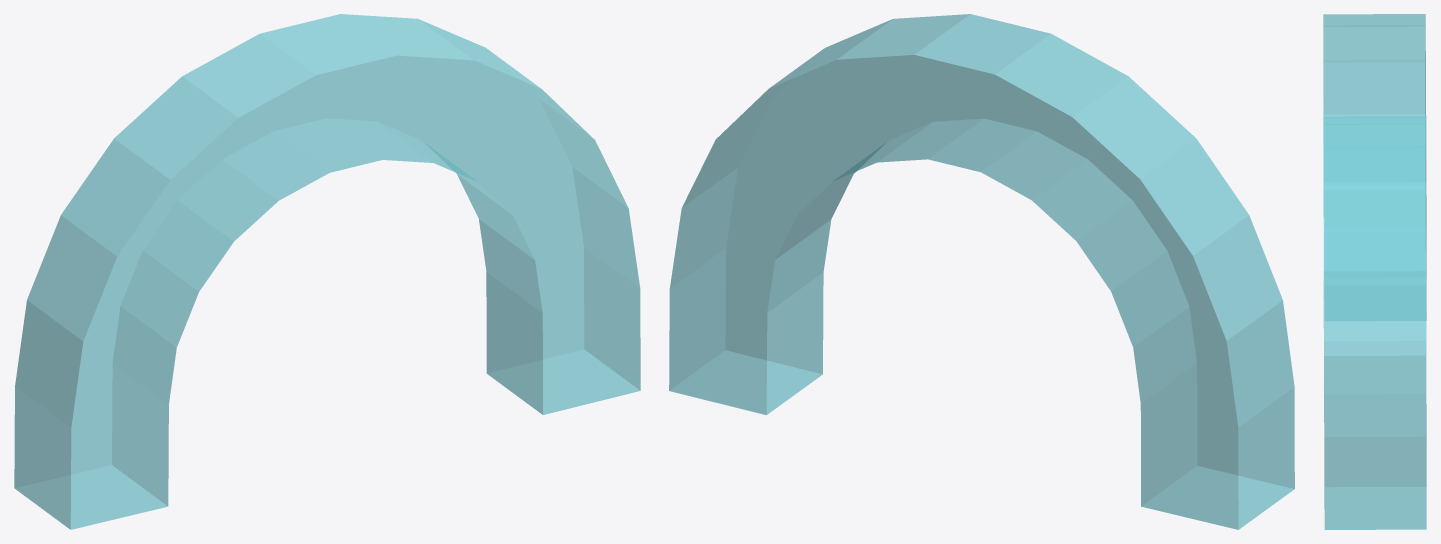
File: Gate masuk winter (1).fbx
The picture shows the model from 3 angles, left to right: view 1: azimuth 30°, elevation 25°; view 2: azimuth 150°, elevation 25°; view 3: azimuth 270°, elevation 25°; orthographic projection. The views are drawn at different scales.
Visible parts, largest first — view 1: Cube.012; view 2: Cube.012; view 3: Cube.012.
Part boxes in pixels (x1,y1,x2,y2): Cube.012: [14, 14, 640, 529]; Cube.012: [669, 14, 1294, 529]; Cube.012: [1323, 14, 1426, 529].
Size of the model in its own units: 2336 by 1552 by 405.
